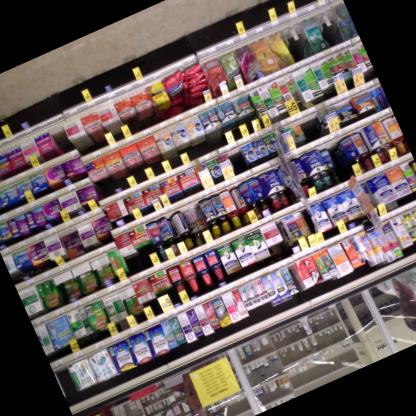empty_space: (49, 124, 77, 161), (53, 363, 80, 401), (283, 26, 309, 61), (326, 142, 349, 181), (320, 12, 343, 46), (298, 115, 321, 144), (226, 146, 247, 174)
